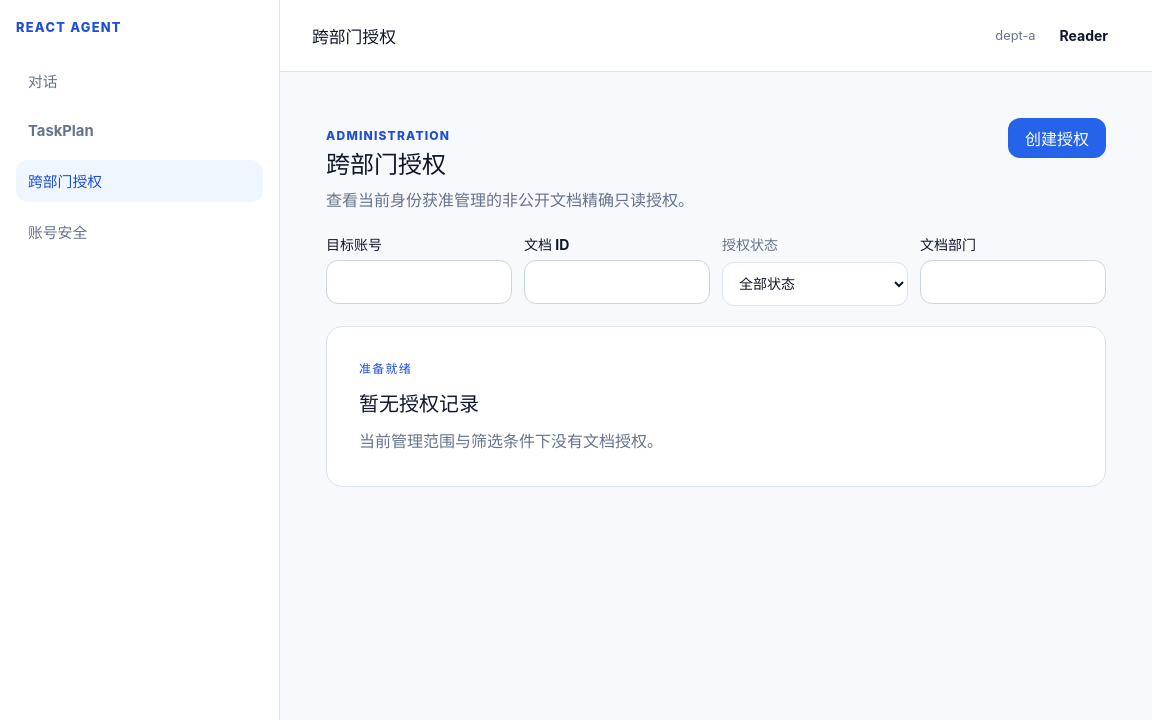
Test: App authentication entry › shows the grantable department filter for an admin
The width and height of the screenshot is (1152, 720).
Step 1. Click the button "创建授权" → (1057, 138), box left=1008, top=118, right=1106, bottom=158
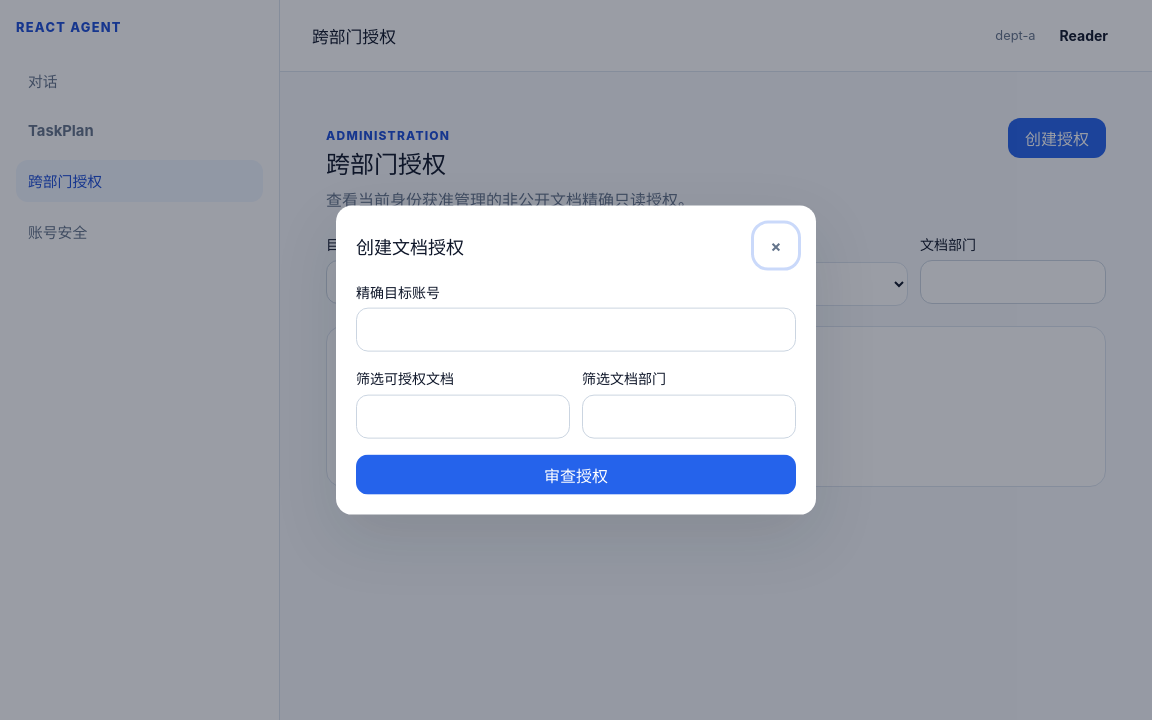
Expected: the field labelled "筛选文档部门" is shown, left=582, top=394, right=796, bottom=438
